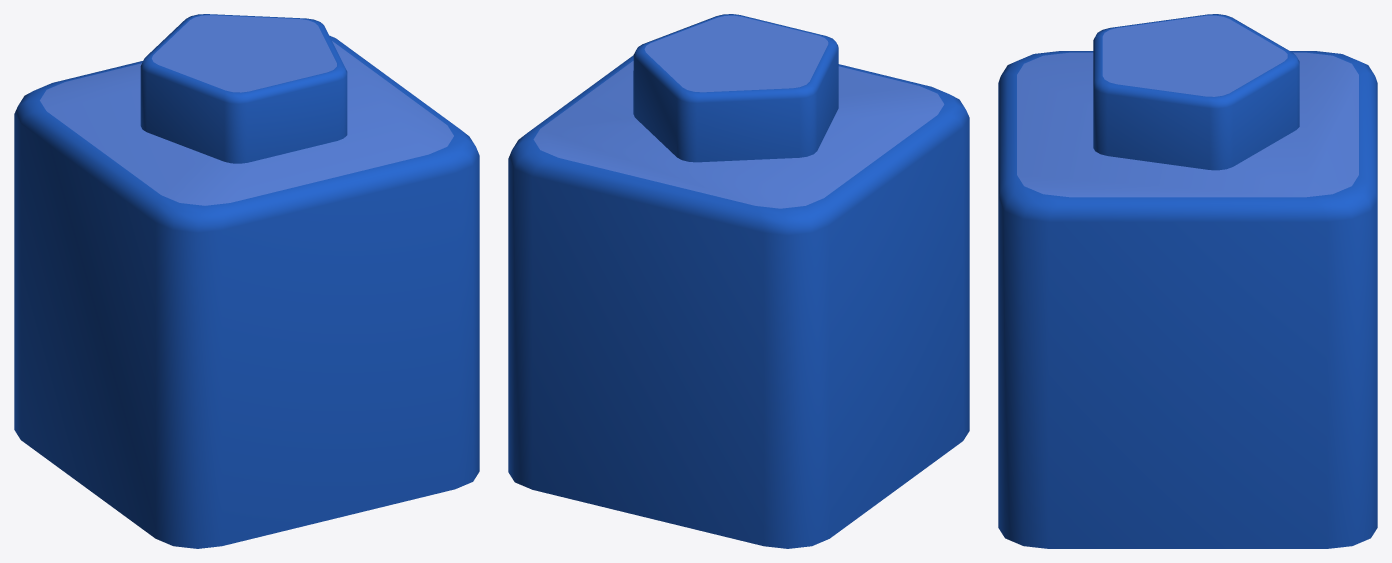
The model's file is block_pentagon.fbx.
The picture shows the model from 3 angles, left to right: view 1: azimuth 30°, elevation 25°; view 2: azimuth 150°, elevation 25°; view 3: azimuth 270°, elevation 25°; orthographic projection. The views are drawn at different scales.
Visible parts, largest first — view 1: block_pentagon; view 2: block_pentagon; view 3: block_pentagon.
Boxes of the visible parts, x1,y1,x2,y2 form: block_pentagon: (14, 14, 479, 548); block_pentagon: (508, 14, 969, 548); block_pentagon: (998, 14, 1377, 548).
Size of the model in its own units: 100 by 100 by 120.
